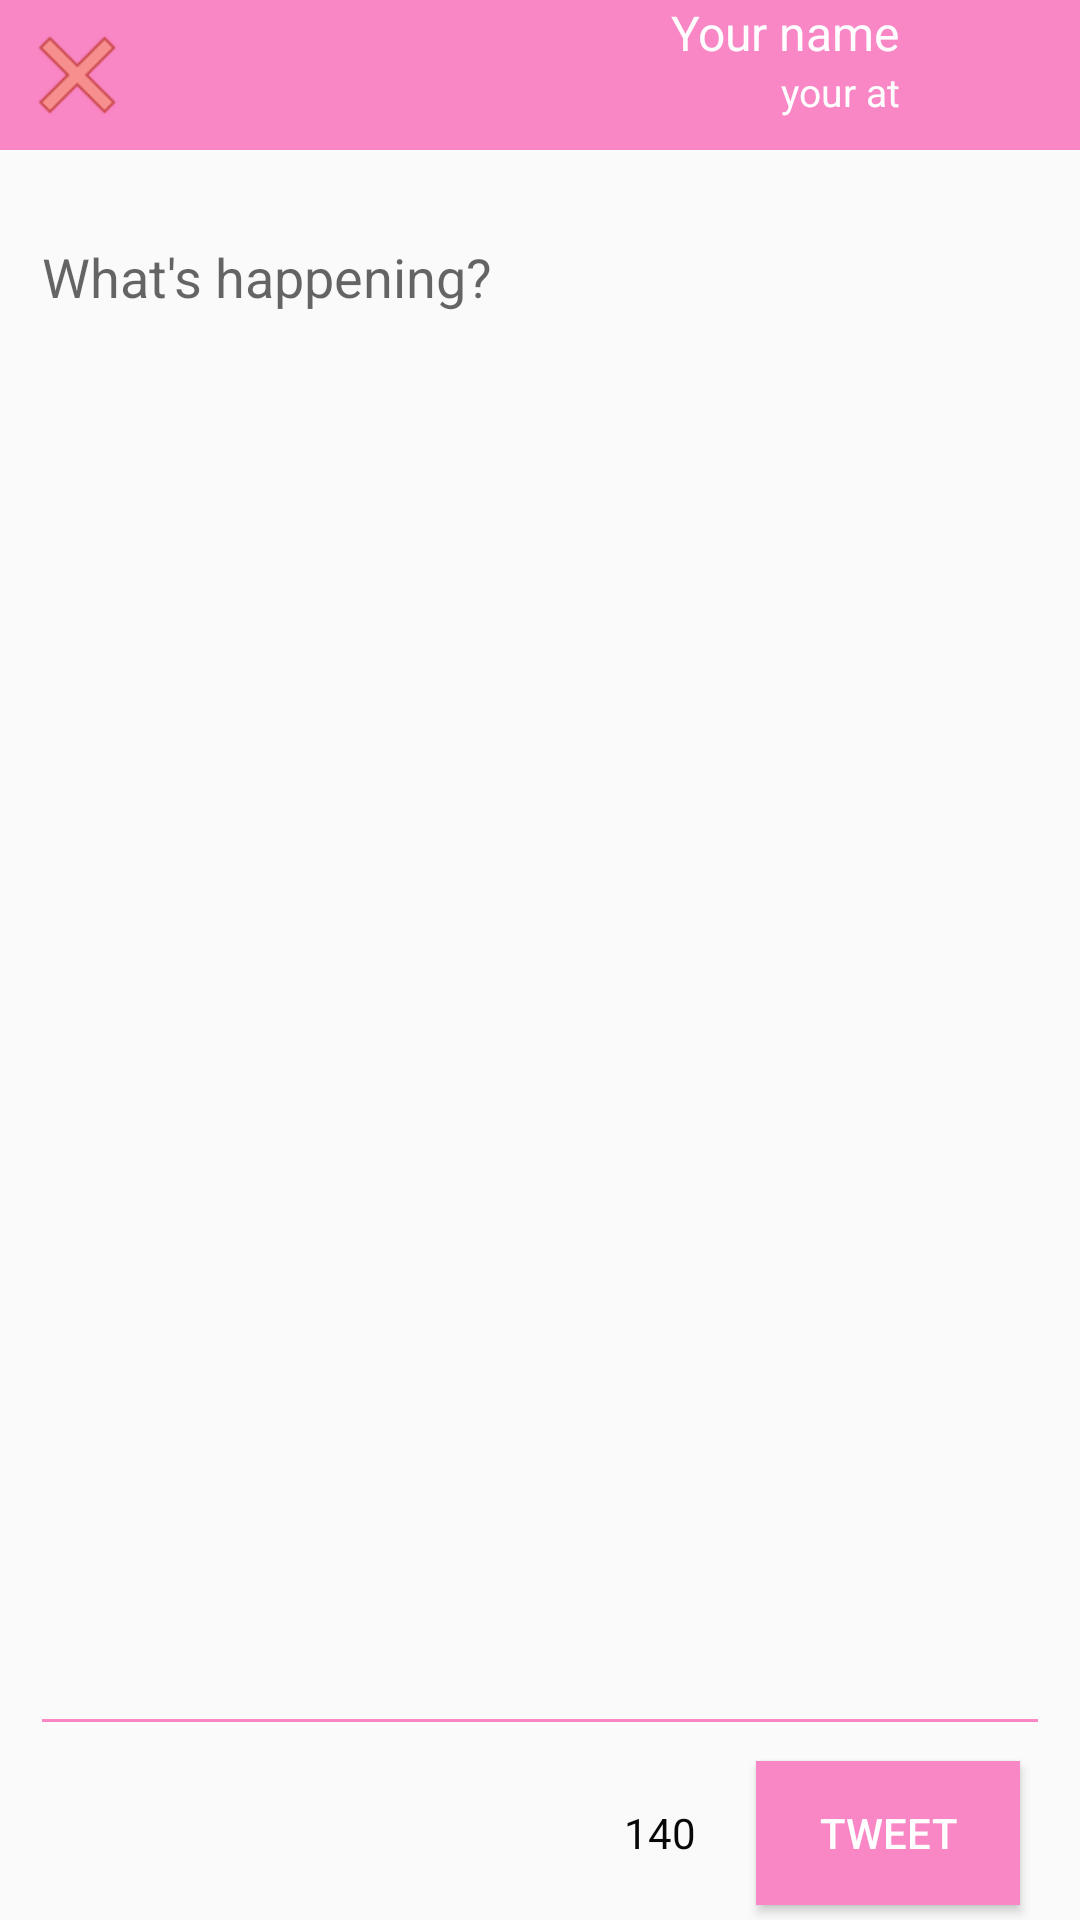

Locate icon controls on the screen. Image size 1080x1920, boxes as bbox(x1, y1, x2, y2).
delete: bbox(39, 37, 115, 113)
